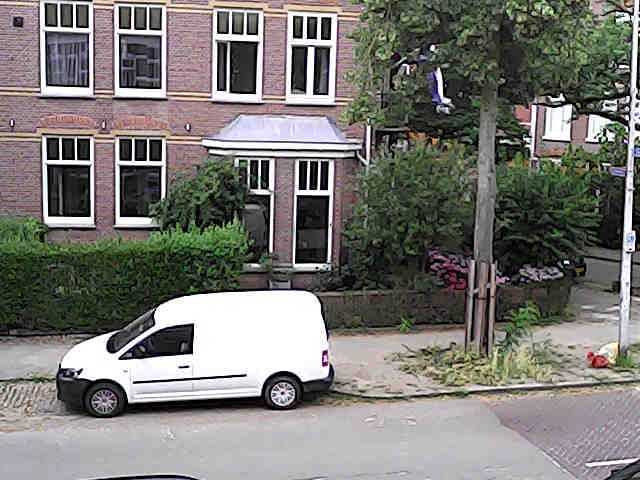whitevan: (57, 290, 333, 416)
